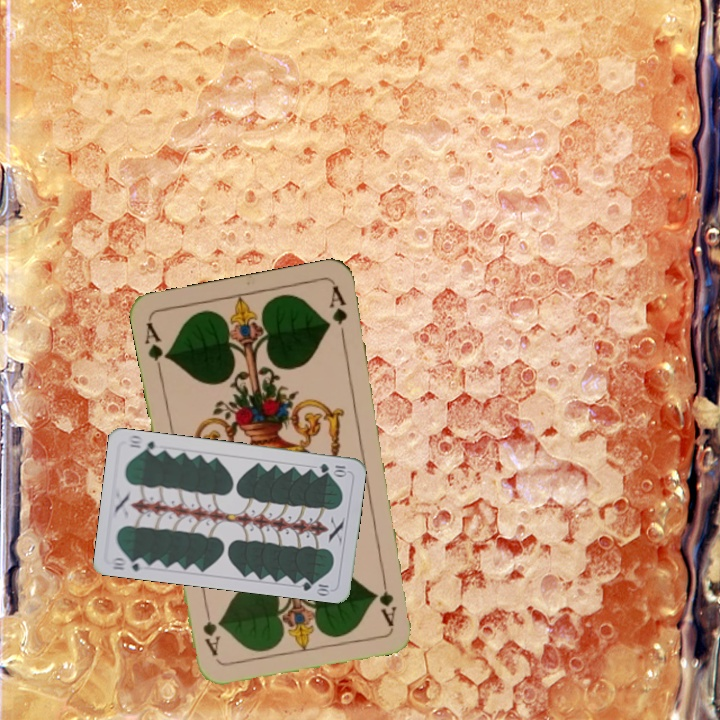G10: (108, 553, 149, 574), (315, 459, 350, 478)
GA: (141, 318, 172, 376), (377, 569, 399, 628)
